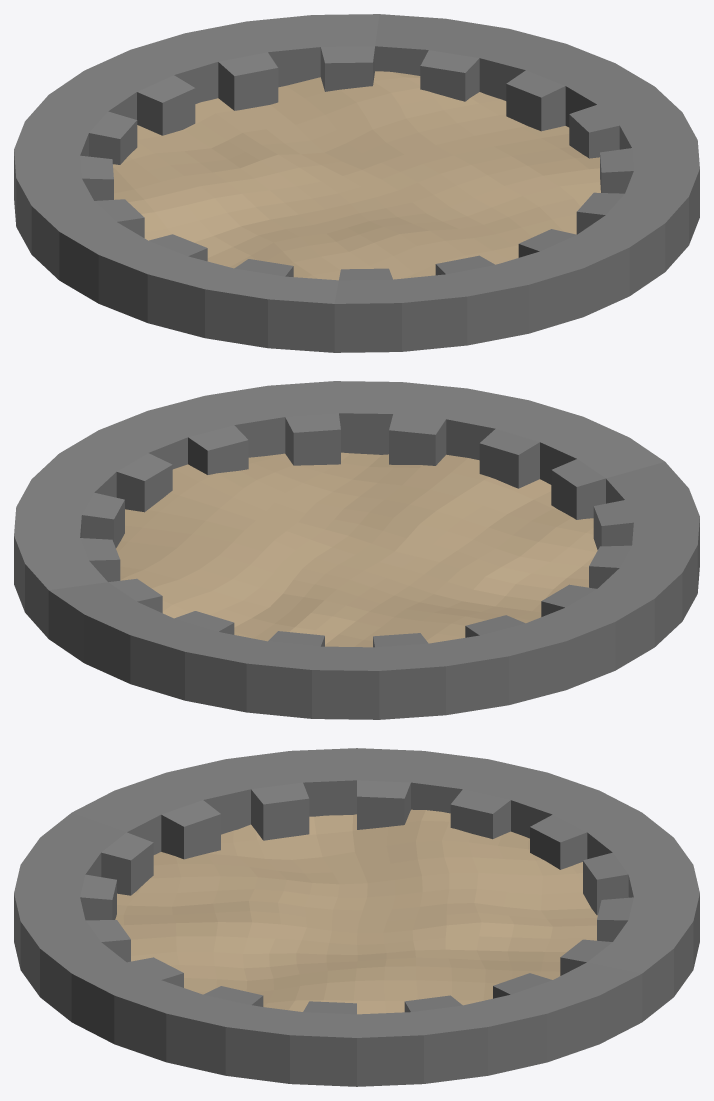
The model's file is ArenaField.fbx.
The picture shows the model from 3 angles, top to bottom: view 1: azimuth 30°, elevation 25°; view 2: azimuth 150°, elevation 25°; view 3: azimuth 270°, elevation 25°; orthographic projection.
Visible parts, largest first — view 1: Cylinder, Plane; view 2: Cylinder, Plane; view 3: Cylinder, Plane.
Boxes of the visible parts, box(x1,y1,x2,y2) form: Cylinder: box(14, 14, 699, 352); Plane: box(113, 71, 600, 280); Cylinder: box(14, 381, 699, 719); Plane: box(116, 452, 597, 647); Cylinder: box(14, 748, 699, 1086); Plane: box(115, 809, 597, 1014).
Size of the model in its own units: 3716 by 293 by 3716.
